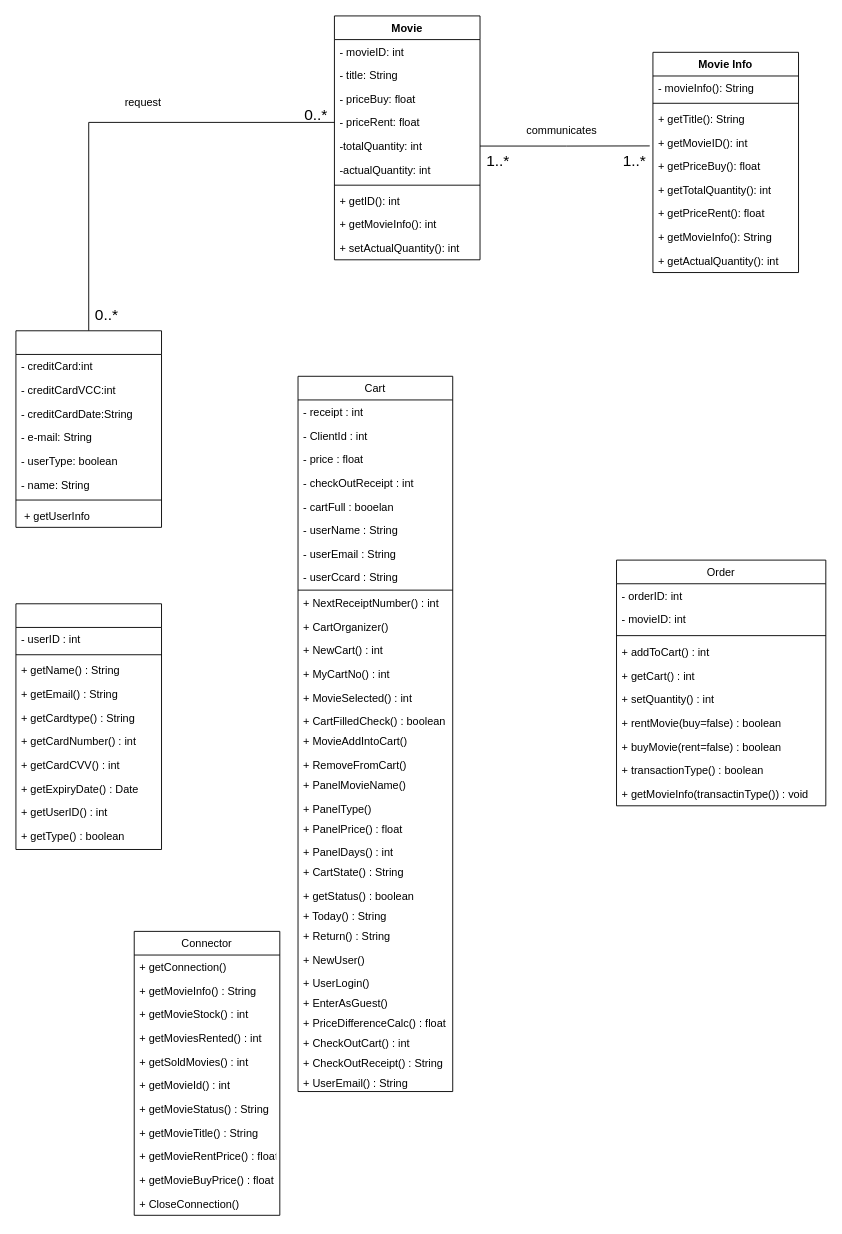
This 842x1234 diagram has some shape labels left out. The shapes that lost their labels are listed below. From the top down, each one's box as (x1, y1, x2, y2) in pixels, then its label:
(15, 330, 162, 527): Customer
(15, 603, 162, 849): User Info
